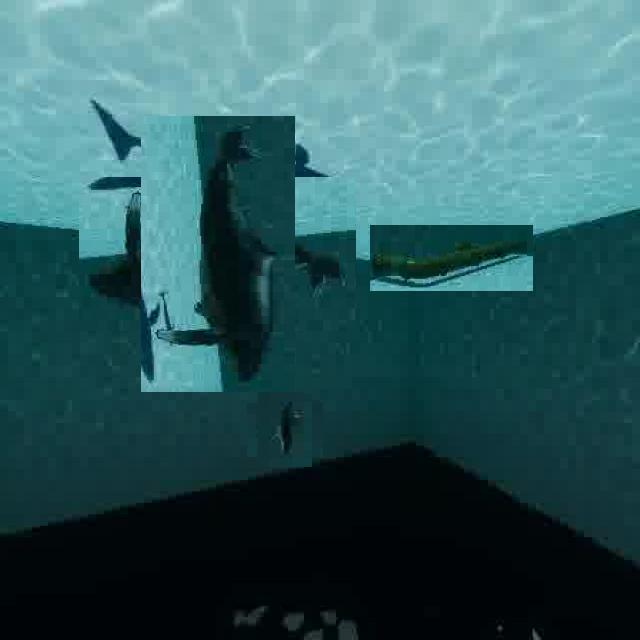Pipe: (370, 225, 533, 291)
Whale: (110, 146, 326, 362), (252, 398, 318, 462)
